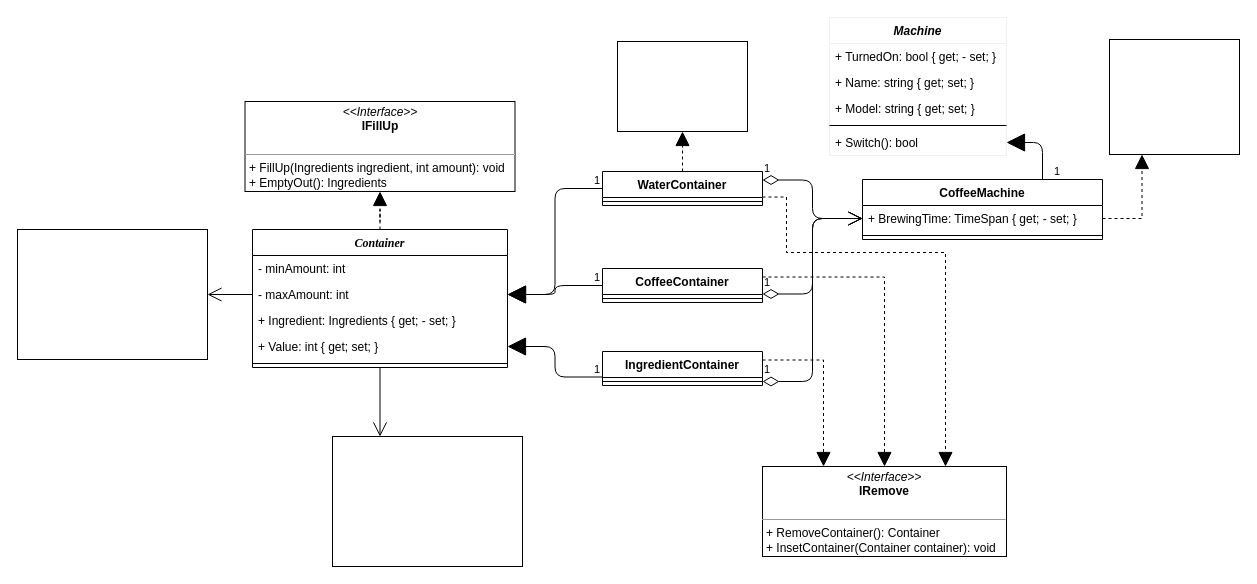
Some shapes in this 1257 by 584 pixel diagram are drawn without their labels. The centre of each missing label's shape, as x and y in pixels:
<<enum>> HotDrinks Coffee CoffeeWater Tea Water: pixel 427 501
<<enum>> Ingredients Coffee CoffeeBeans Tea Water: pixel 112 294
<<Interface>> IBrew + TurnOn(): void + TurnOff(): void + Brew():void: pixel 1174 96
<<Interface>> IDispenseWater + Dispense(): void: pixel 682 86
